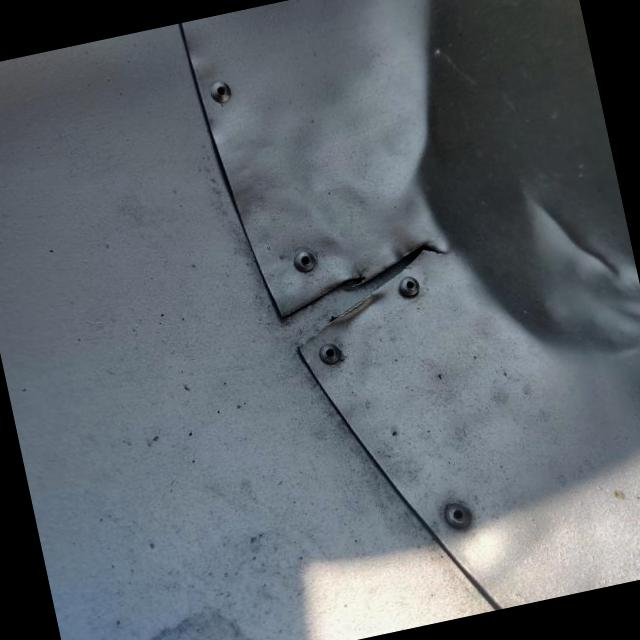crack: (256, 219, 476, 375)
dent: (338, 0, 640, 427)
